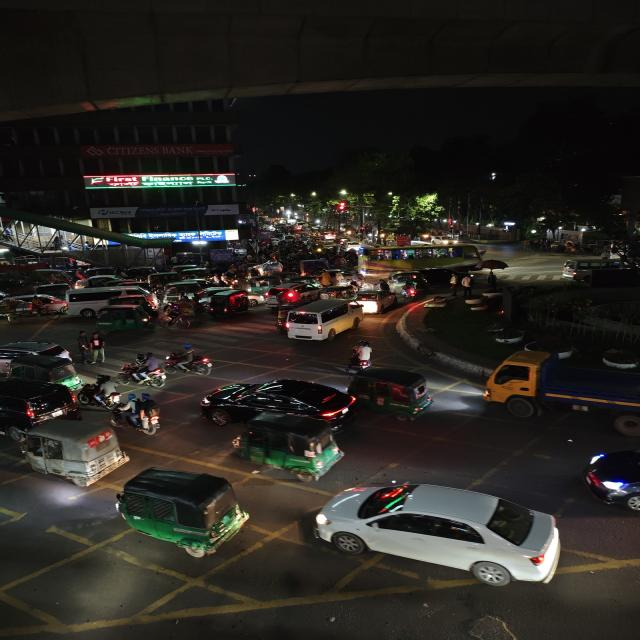bus: (363, 245, 485, 276)
car: (304, 477, 568, 589), (196, 376, 359, 428), (578, 446, 640, 514), (277, 300, 367, 344), (265, 282, 319, 307)
cng: (115, 466, 254, 558), (21, 416, 130, 488), (236, 417, 345, 481), (347, 364, 441, 422), (0, 378, 73, 421), (5, 355, 83, 390), (95, 298, 155, 332), (558, 256, 634, 282), (82, 380, 133, 412), (205, 289, 250, 319), (319, 284, 357, 300)
motorcycle: (109, 392, 164, 435), (165, 344, 217, 378), (124, 352, 166, 388), (161, 296, 198, 330), (345, 340, 377, 371), (82, 330, 109, 364), (399, 280, 422, 301)
pedestrian: (459, 272, 478, 297)
pickup_van: (478, 345, 639, 419)
rickshaw: (1, 291, 66, 324)
